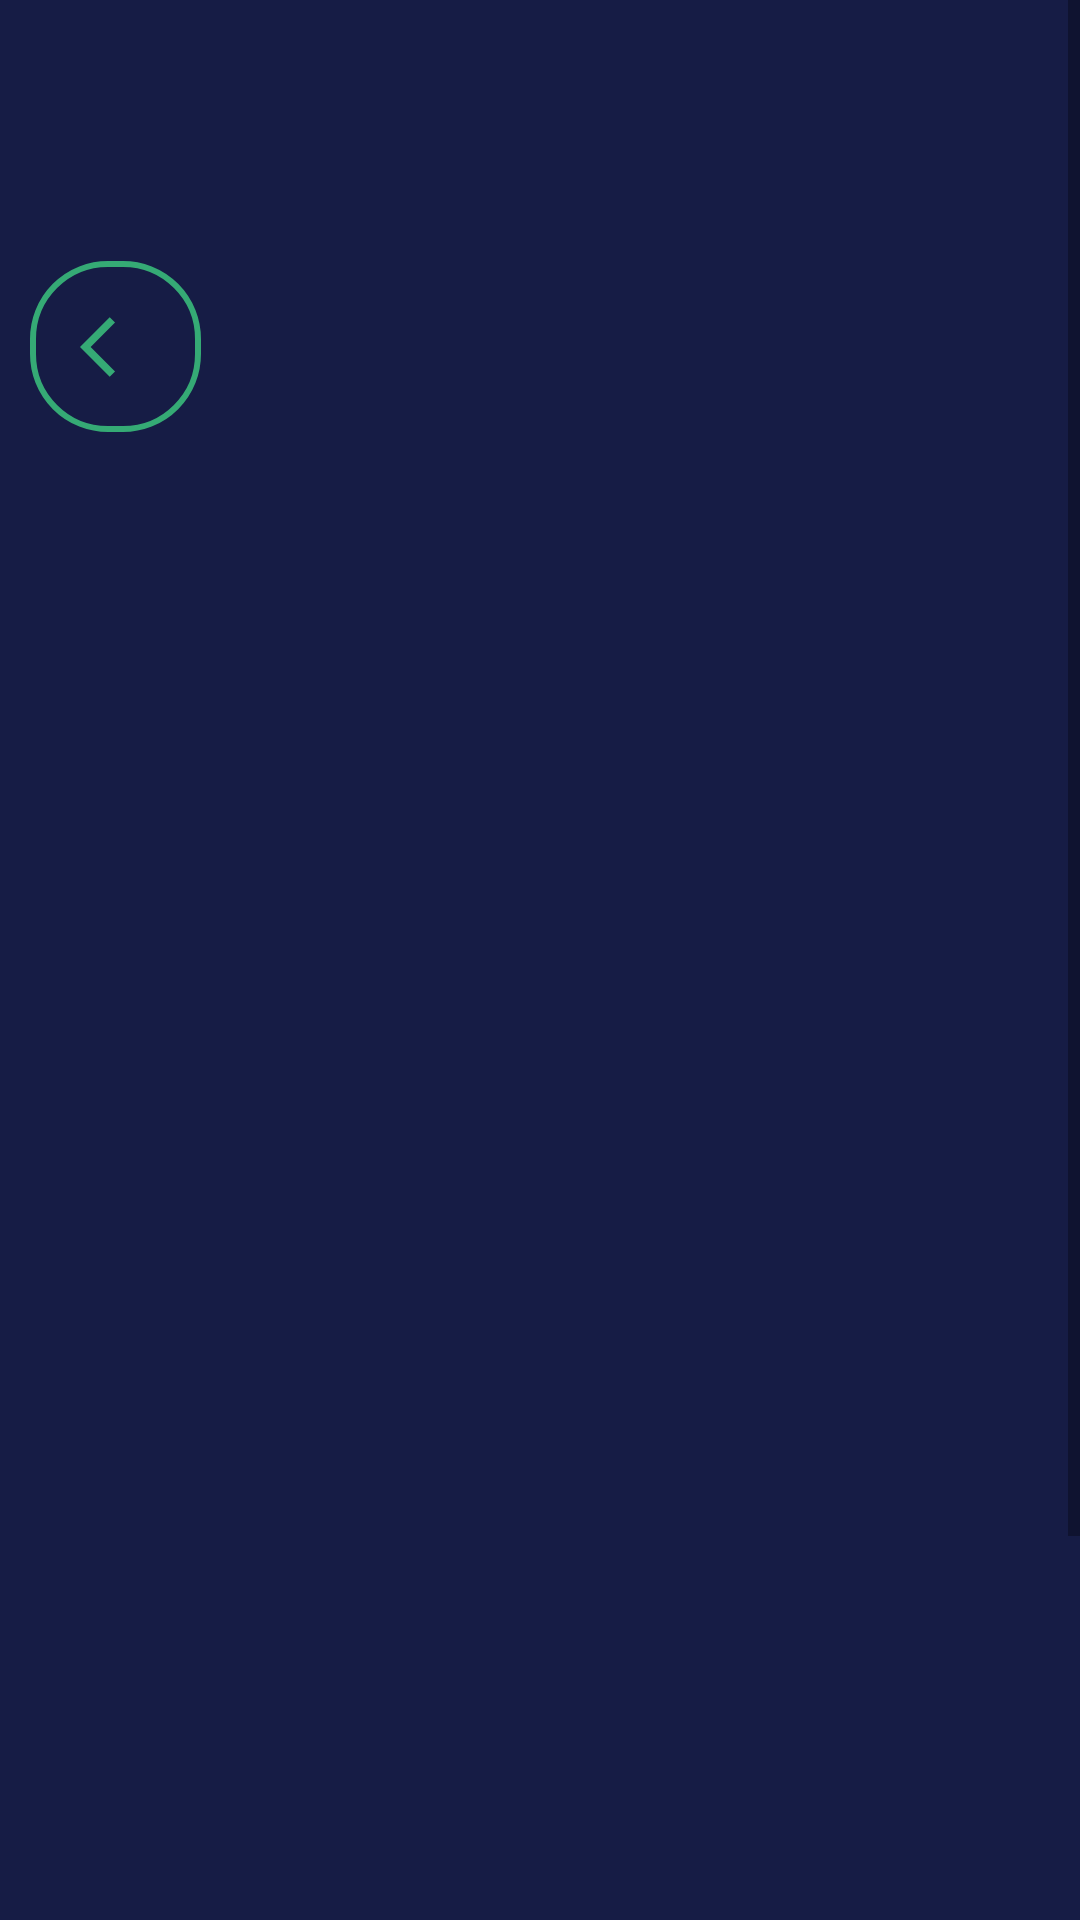

Where icons sit on this 1080*1920 app screen, as (x1, y1, x2, y2):
back: (30, 261, 201, 432)
